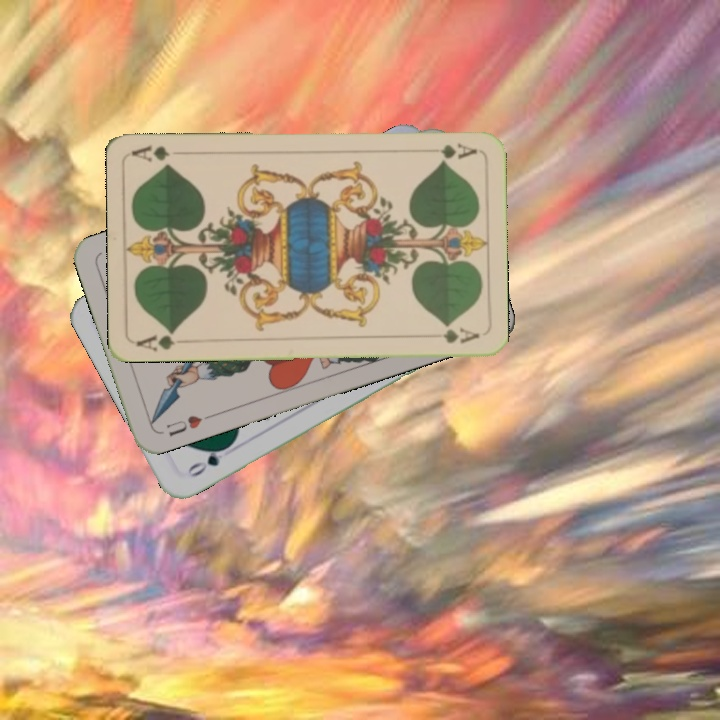GA: (133, 326, 192, 353), (436, 139, 480, 164)
GO: (181, 441, 233, 480)
HU: (162, 411, 205, 439)
